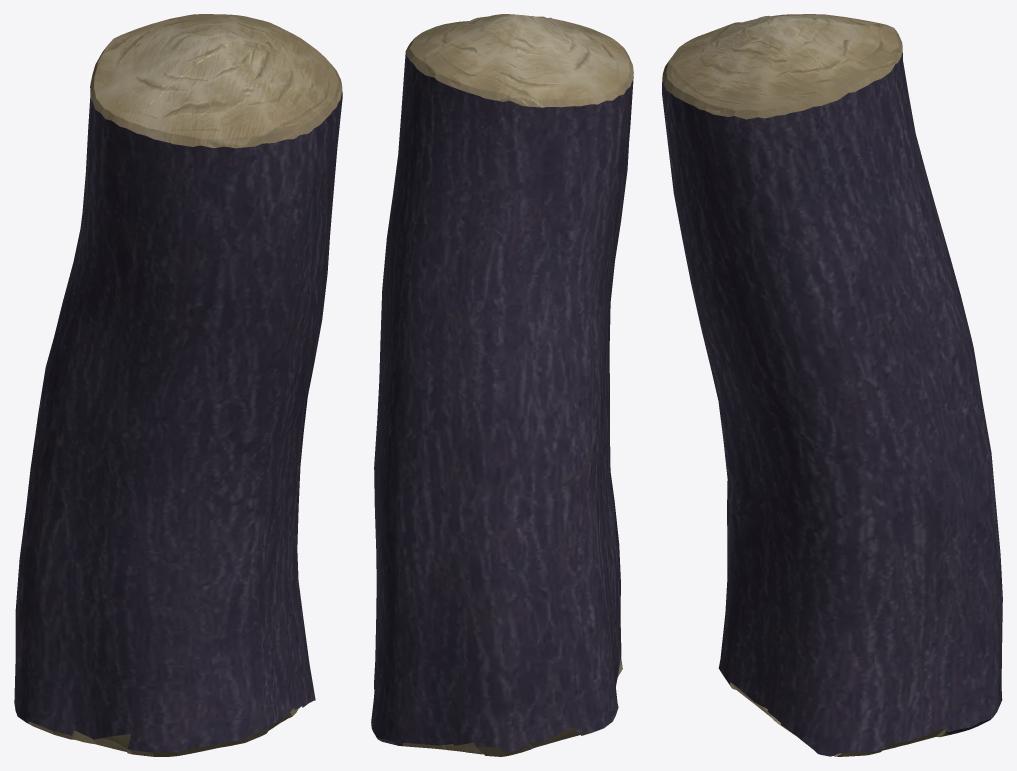
3 views of the same model, side by side, from view 1: azimuth 30°, elevation 25°; view 2: azimuth 150°, elevation 25°; view 3: azimuth 270°, elevation 25° (orthographic). The views are drawn at different scales.
Visible parts, largest first — view 1: SM_FH_Oak_Tree_02_quarter_01_LOD0; view 2: SM_FH_Oak_Tree_02_quarter_01_LOD0; view 3: SM_FH_Oak_Tree_02_quarter_01_LOD0.
Part boxes in pixels (x1=…): SM_FH_Oak_Tree_02_quarter_01_LOD0: x1=14, y1=14, x2=342, y2=756; SM_FH_Oak_Tree_02_quarter_01_LOD0: x1=371, y1=14, x2=633, y2=756; SM_FH_Oak_Tree_02_quarter_01_LOD0: x1=662, y1=14, x2=1002, y2=756.
Size of the model in its own units: 1.11 by 2.98 by 1.29.
Materials: 1 (1 with a texture image).
